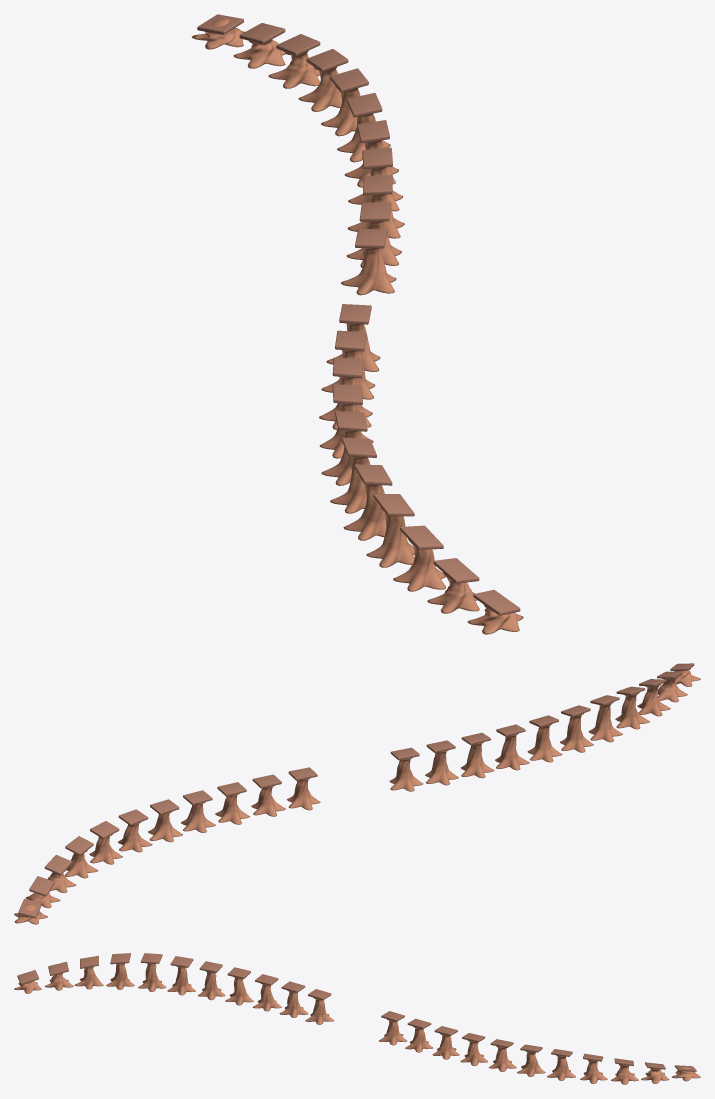
The model's file is sc02_supports_trunk_fixture.glb.
The picture shows the model from 3 angles, top to bottom: view 1: azimuth 30°, elevation 25°; view 2: azimuth 150°, elevation 25°; view 3: azimuth 270°, elevation 25°; orthographic projection. The views are drawn at different scales.
Parts seen in each view (by area): view 1: SC02_TRUNK_10_shaft, SC02_TRUNK_18_shaft, SC02_TRUNK_19_shaft, SC02_TRUNK_17_shaft, SC02_TRUNK_02_shaft, SC02_TRUNK_20_shaft, SC02_TRUNK_03_shaft, SC02_TRUNK_16_shaft; view 2: SC02_TRUNK_17_shaft, SC02_TRUNK_15_shaft, SC02_TRUNK_16_shaft, SC02_TRUNK_18_shaft, SC02_TRUNK_14_shaft, SC02_TRUNK_13_shaft, SC02_TRUNK_12_shaft, SC02_TRUNK_11_shaft, SC02_TRUNK_10_shaft, SC02_TRUNK_19_shaft, SC02_TRUNK_06_shaft, SC02_TRUNK_07_shaft (+6 smaller); view 3: SC02_TRUNK_17_shaft, SC02_TRUNK_15_shaft, SC02_TRUNK_16_shaft, SC02_TRUNK_13_shaft, SC02_TRUNK_14_shaft, SC02_TRUNK_18_shaft, SC02_TRUNK_12_shaft, SC02_TRUNK_11_shaft, SC02_TRUNK_05_shaft, SC02_TRUNK_04_shaft, SC02_TRUNK_06_shaft, SC02_TRUNK_09_shaft (+8 smaller).
Boxes of the visible parts, <box> form: SC02_TRUNK_10_shaft: <box>341,248,396,295</box>; SC02_TRUNK_18_shaft: <box>366,506,414,567</box>; SC02_TRUNK_19_shaft: <box>393,539,445,591</box>; SC02_TRUNK_17_shaft: <box>343,476,386,540</box>; SC02_TRUNK_02_shaft: <box>268,50,319,88</box>; SC02_TRUNK_20_shaft: <box>427,572,479,613</box>; SC02_TRUNK_03_shaft: <box>298,67,341,111</box>; SC02_TRUNK_16_shaft: <box>330,456,369,513</box>; SC02_TRUNK_17_shaft: <box>588,702,622,742</box>; SC02_TRUNK_15_shaft: <box>527,723,562,762</box>; SC02_TRUNK_16_shaft: <box>560,713,593,752</box>; SC02_TRUNK_18_shaft: <box>615,692,649,729</box>; SC02_TRUNK_14_shaft: <box>495,733,529,770</box>; SC02_TRUNK_13_shaft: <box>460,742,494,778</box>; SC02_TRUNK_12_shaft: <box>425,750,458,785</box>; SC02_TRUNK_11_shaft: <box>389,757,423,791</box>; SC02_TRUNK_10_shaft: <box>287,778,320,810</box>; SC02_TRUNK_19_shaft: <box>637,684,670,716</box>; SC02_TRUNK_06_shaft: <box>148,811,182,842</box>; SC02_TRUNK_07_shaft: <box>181,802,215,832</box>; SC02_TRUNK_17_shaft: <box>138,963,166,991</box>; SC02_TRUNK_15_shaft: <box>198,971,225,1000</box>; SC02_TRUNK_16_shaft: <box>167,966,195,995</box>; SC02_TRUNK_13_shaft: <box>253,983,281,1011</box>; SC02_TRUNK_14_shaft: <box>225,976,253,1005</box>; SC02_TRUNK_18_shaft: <box>106,963,134,989</box>; SC02_TRUNK_12_shaft: <box>279,990,308,1017</box>; SC02_TRUNK_11_shaft: <box>305,997,334,1024</box>; SC02_TRUNK_05_shaft: <box>517,1051,545,1076</box>; SC02_TRUNK_04_shaft: <box>547,1055,575,1080</box>; SC02_TRUNK_06_shaft: <box>489,1046,516,1071</box>; SC02_TRUNK_09_shaft: <box>405,1026,432,1052</box>.
Bounding box in the file's own units: 100 × 13.09 × 260.
